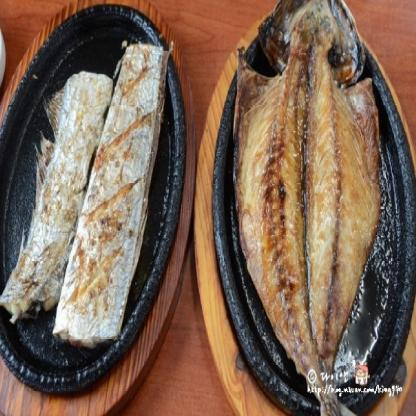Peixe: (226, 0, 402, 416)
